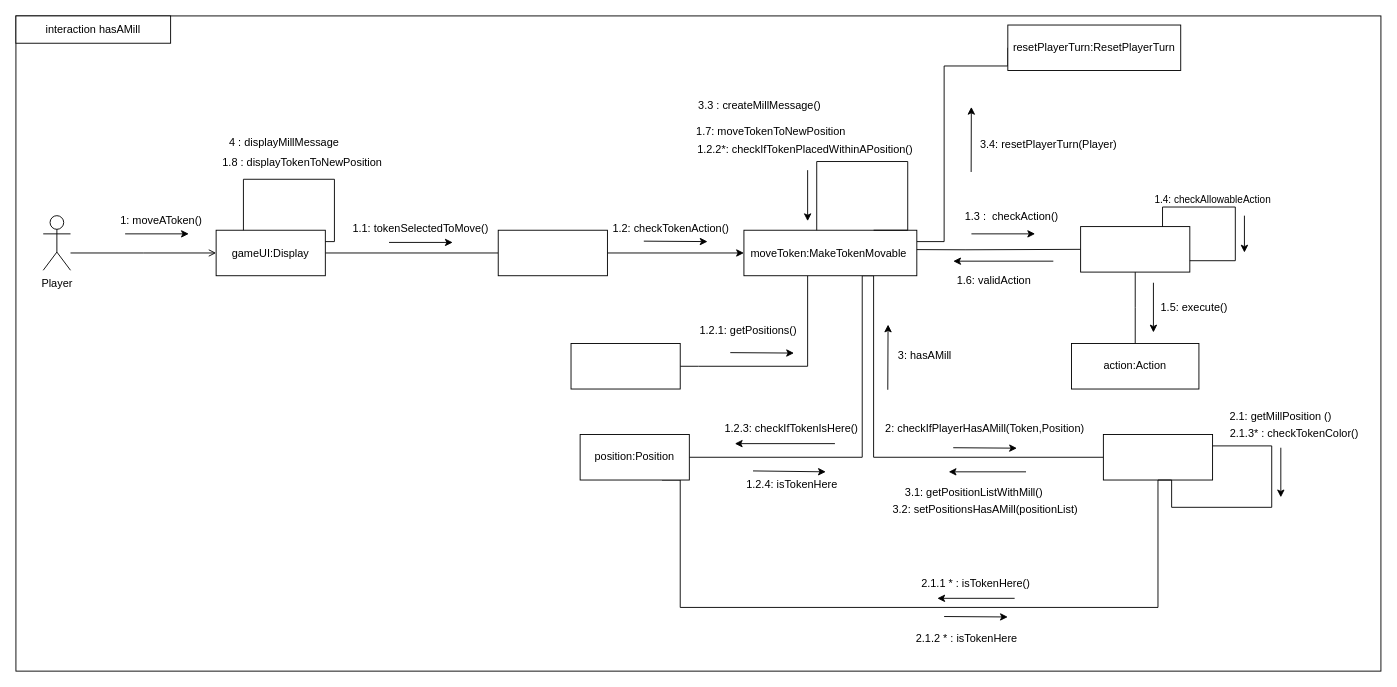
Image size: 1397x687. Some labels were removed from this diagram. The centre of each missing label's shape, as x and y in pixels:
"board:Board" belongs at (x=625, y=366).
"player:Player" belongs at (x=1135, y=249).
"rule:Rule" belongs at (x=1157, y=457).
"token:Token" belongs at (x=552, y=252).
